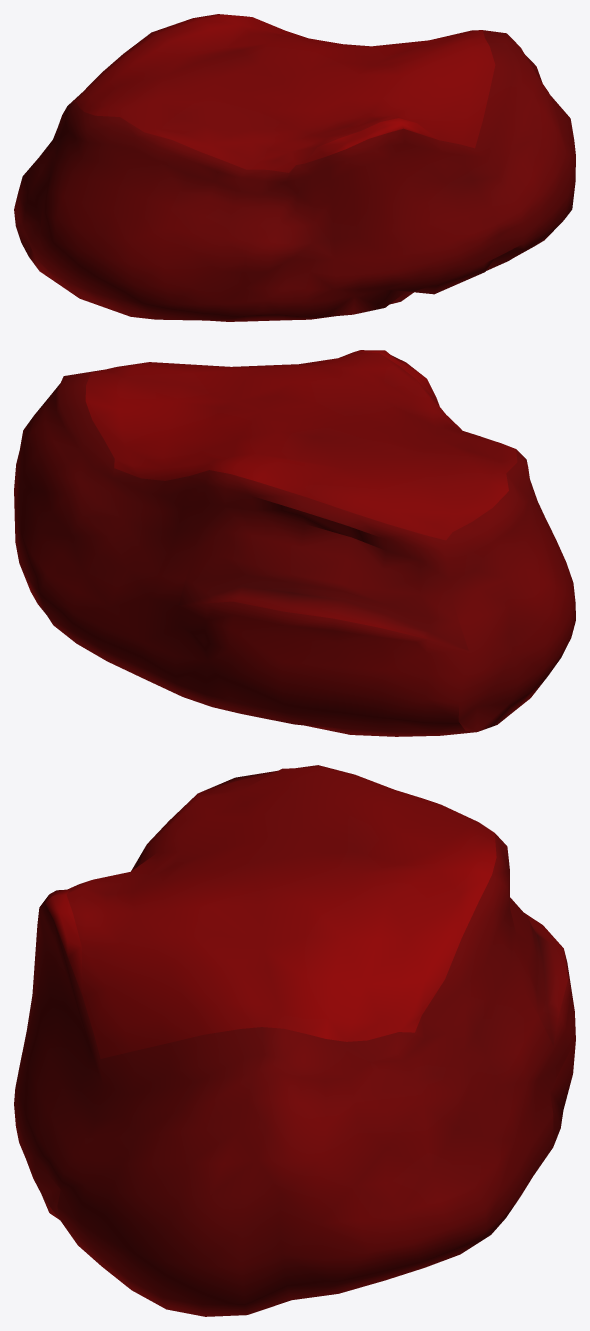
The model's file is geology-rocks-sharprock_v8.fbx.
3 views of the same model, one above another, from view 1: azimuth 30°, elevation 25°; view 2: azimuth 150°, elevation 25°; view 3: azimuth 270°, elevation 25° (orthographic). The views are drawn at different scales.
Parts seen in each view (by area): view 1: SharpRock_v8; view 2: SharpRock_v8; view 3: SharpRock_v8.
Part boxes in pixels (left/top/right/bottom): SharpRock_v8: left=14, top=14, right=575, bottom=321; SharpRock_v8: left=14, top=350, right=575, bottom=736; SharpRock_v8: left=14, top=765, right=575, bottom=1316.
Size of the model in its own units: 4.7 by 1.93 by 3.22.
